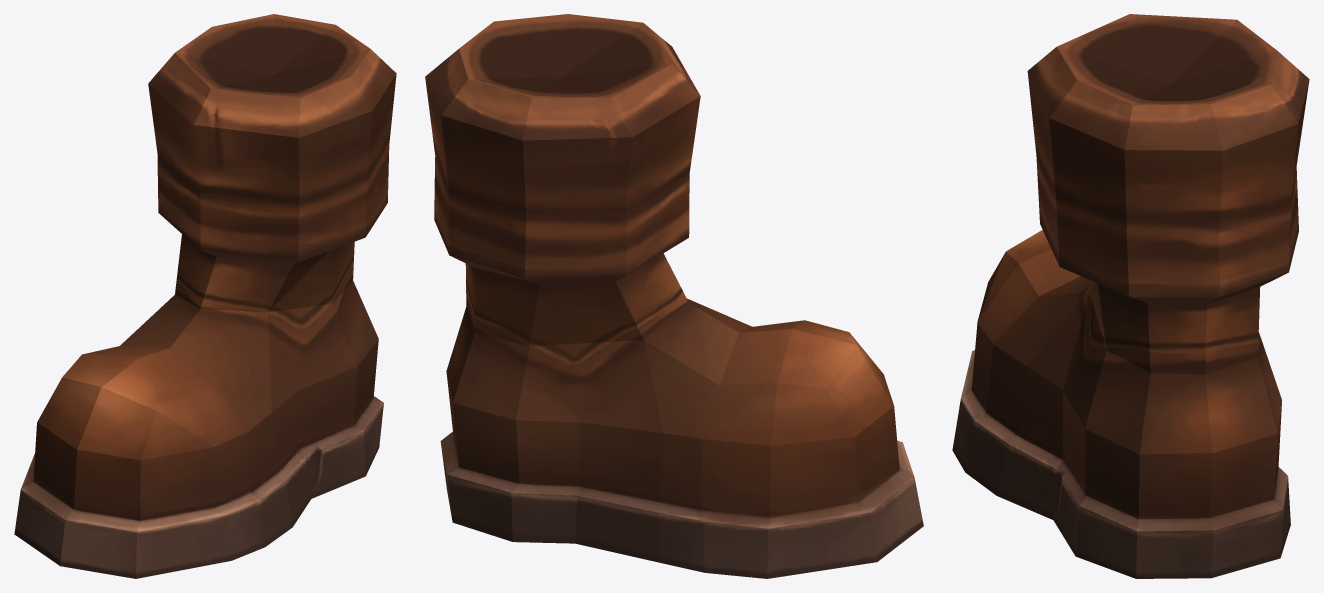
The model's file is 35_shoes.FBX.
3 views of the same model, side by side, from view 1: azimuth 30°, elevation 25°; view 2: azimuth 150°, elevation 25°; view 3: azimuth 270°, elevation 25° (orthographic). The views are drawn at different scales.
Visible parts, largest first — view 1: 35_shoes; view 2: 35_shoes; view 3: 35_shoes.
Boxes of the visible parts, <box> form: 35_shoes: <box>14,14,396,578</box>; 35_shoes: <box>425,14,923,578</box>; 35_shoes: <box>952,14,1309,578</box>.
Size of the model in its own units: 45.56 by 46.6 by 32.23.
